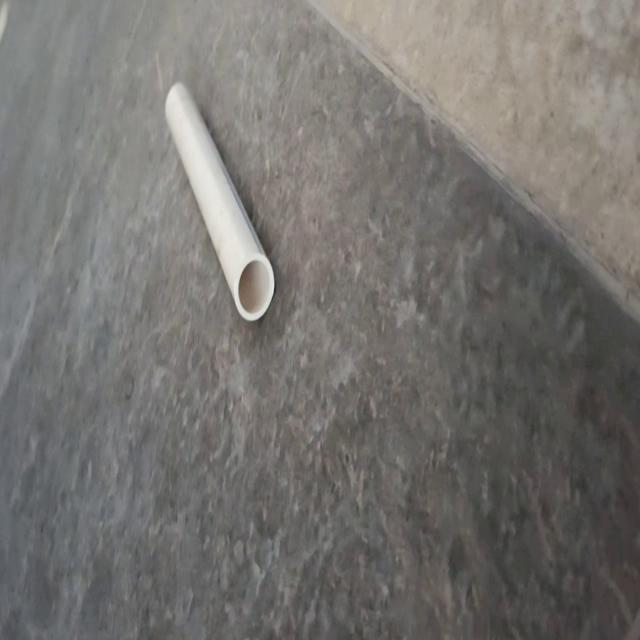Cube: (164, 78, 276, 323)
